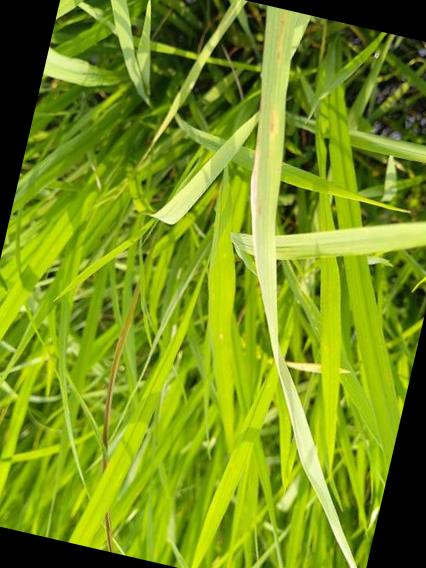Leaf Blight: (250, 10, 287, 251)
